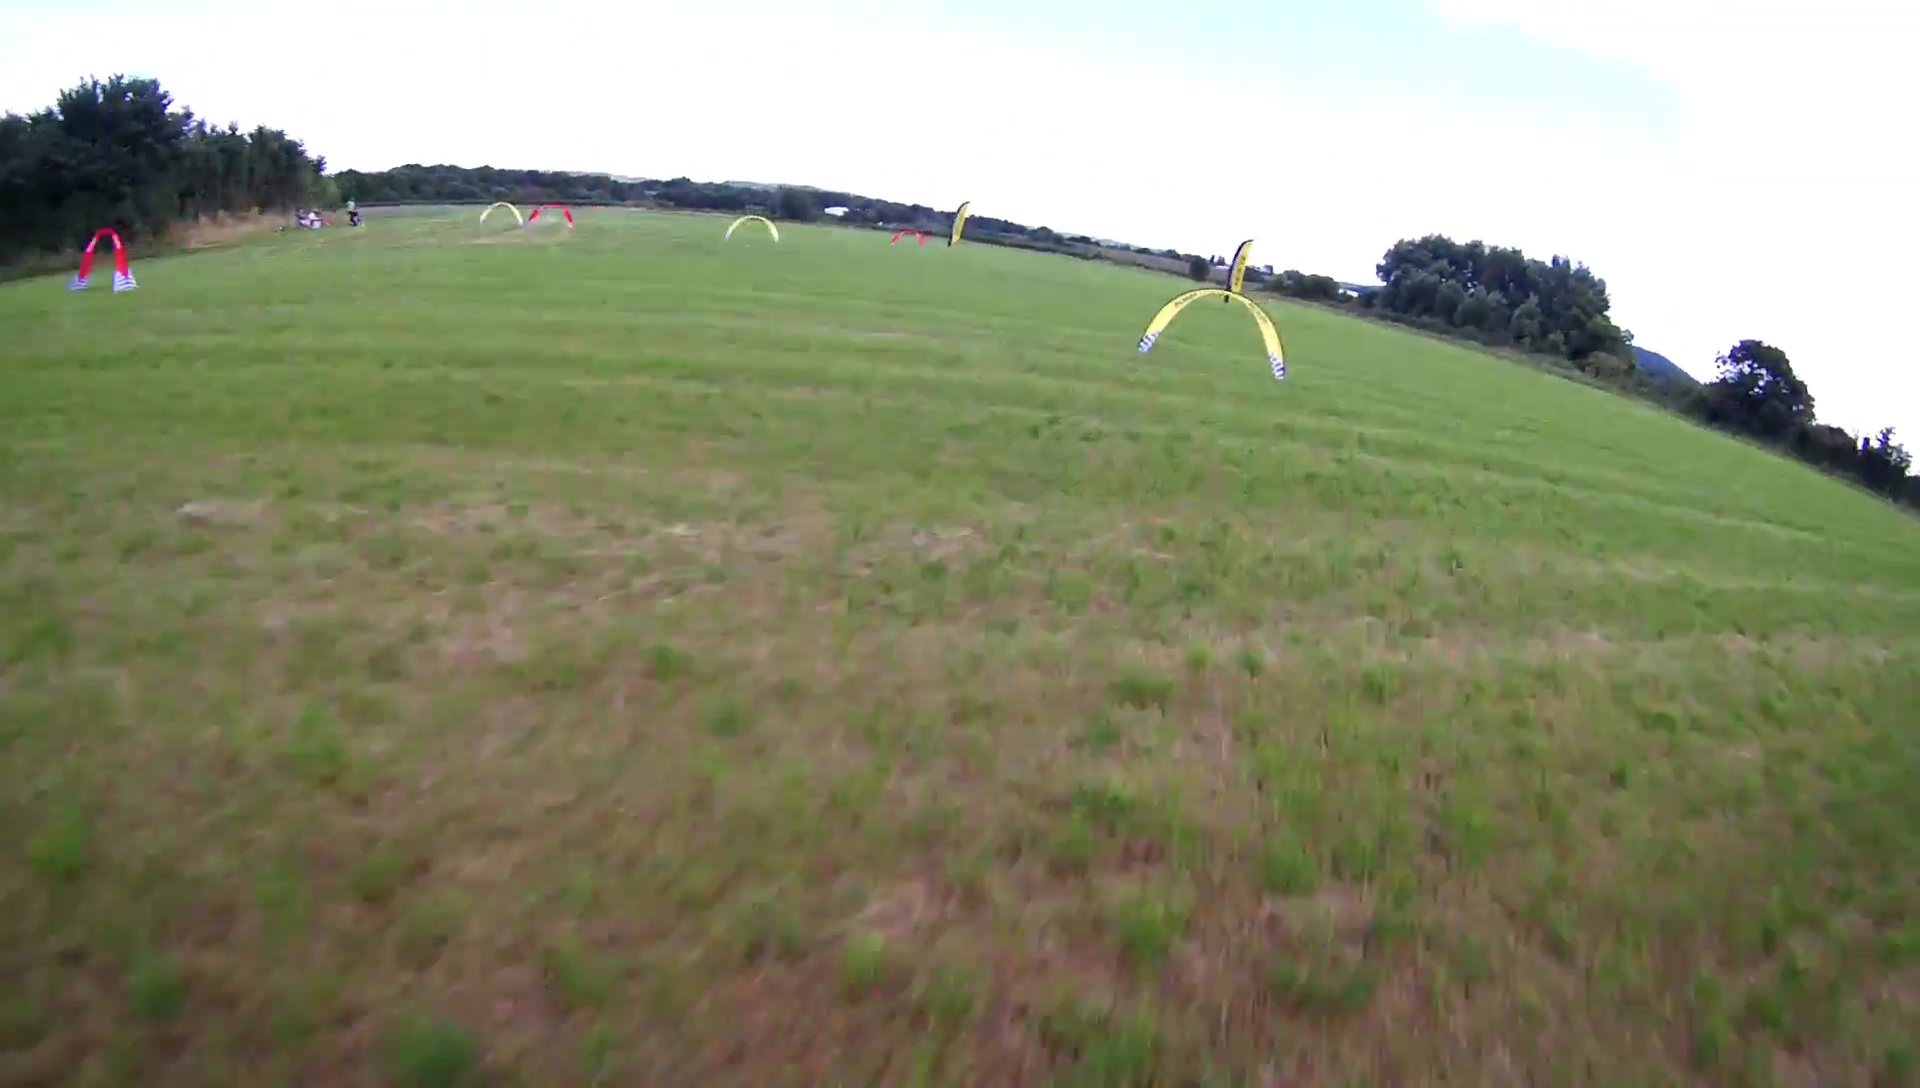gate: (1134, 287, 1287, 380), (71, 223, 138, 294), (723, 215, 783, 247), (476, 200, 527, 228), (526, 200, 576, 227), (889, 227, 928, 248)
